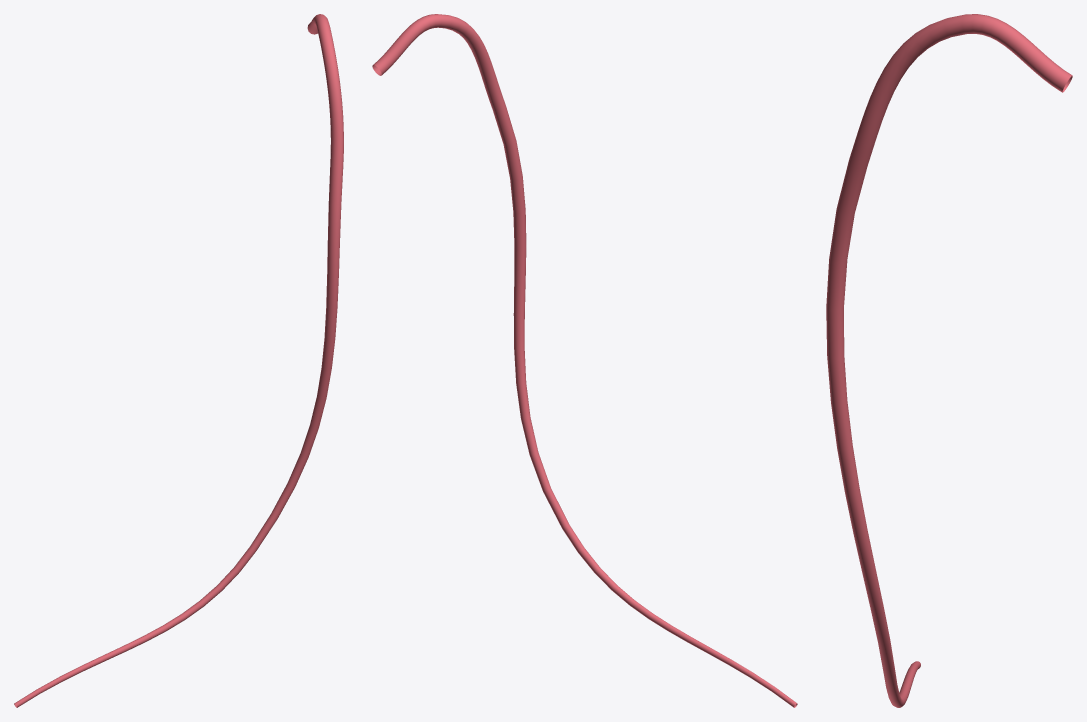
The picture shows the model from 3 angles, left to right: view 1: azimuth 30°, elevation 25°; view 2: azimuth 150°, elevation 25°; view 3: azimuth 270°, elevation 25°; orthographic projection. The views are drawn at different scales.
Parts seen in each view (by area): view 1: ZA_d5ff5e6274919cb4; view 2: ZA_d5ff5e6274919cb4; view 3: ZA_d5ff5e6274919cb4.
Part boxes in pixels (x1=…): ZA_d5ff5e6274919cb4: x1=14, y1=14, x2=343, y2=707; ZA_d5ff5e6274919cb4: x1=372, y1=14, x2=797, y2=707; ZA_d5ff5e6274919cb4: x1=826, y1=14, x2=1072, y2=707.
Size of the model in its own units: 0.0308 by 0.0492 by 0.0123.
